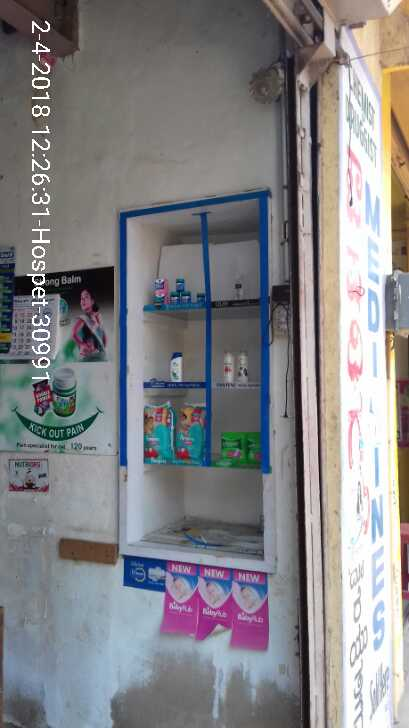vicks: (154, 278, 168, 292), (154, 294, 167, 305), (171, 291, 181, 304), (176, 279, 185, 290), (183, 291, 191, 303), (197, 292, 205, 301)
